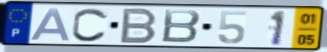1: (268, 9, 288, 47)
5: (216, 9, 249, 45)
A: (28, 7, 73, 42)
B: (117, 7, 159, 44), (159, 8, 202, 44)
C: (70, 7, 111, 43)
